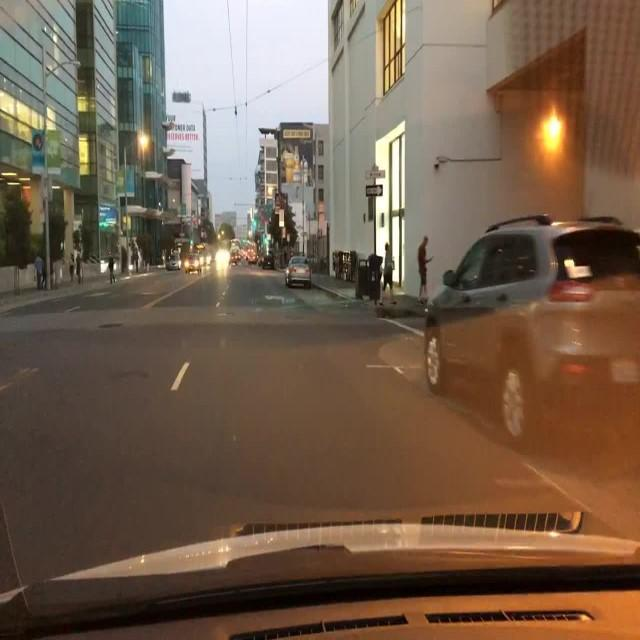normal: (396, 167, 639, 483), (259, 210, 347, 319)
